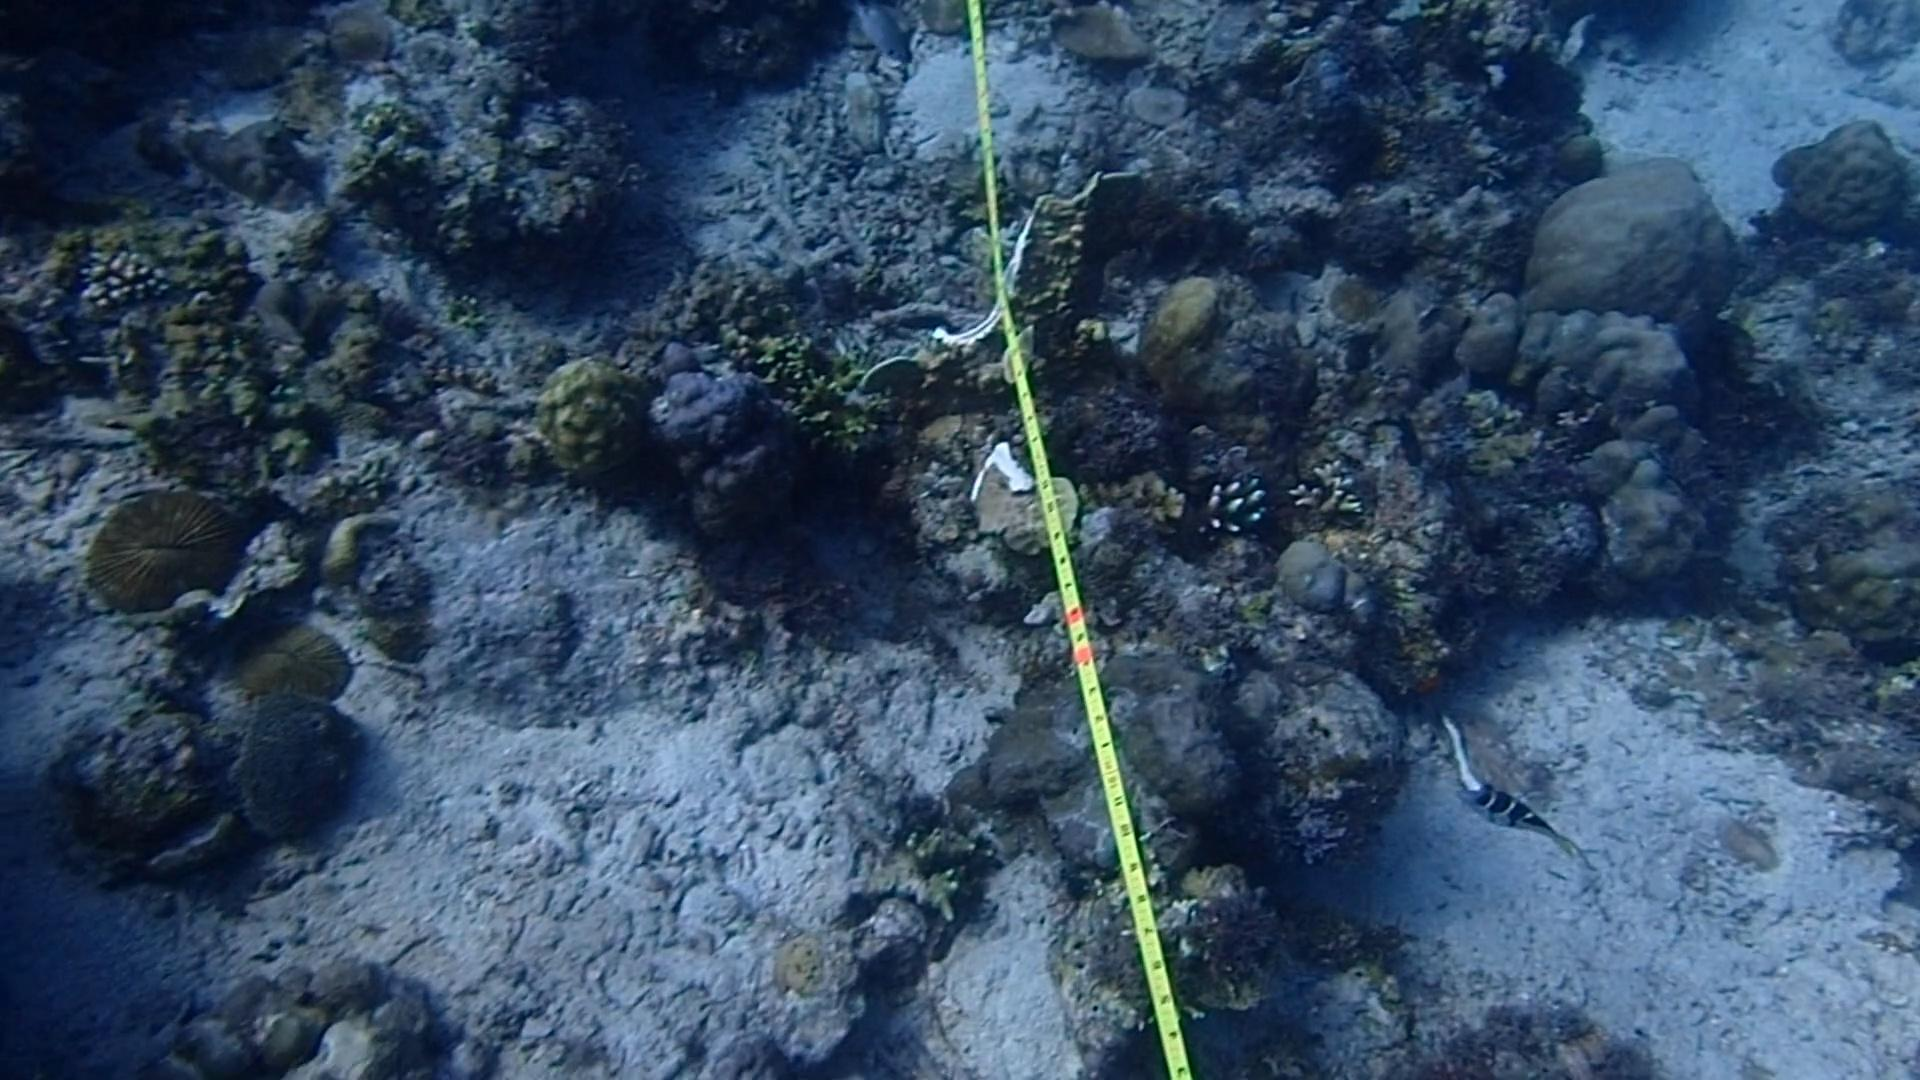Striped Fish: (1445, 765, 1578, 858)
